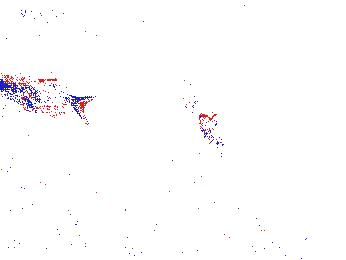red belly glassfish: (196, 112, 221, 148)
redtail glassfish: (1, 74, 101, 128), (12, 3, 102, 42)
